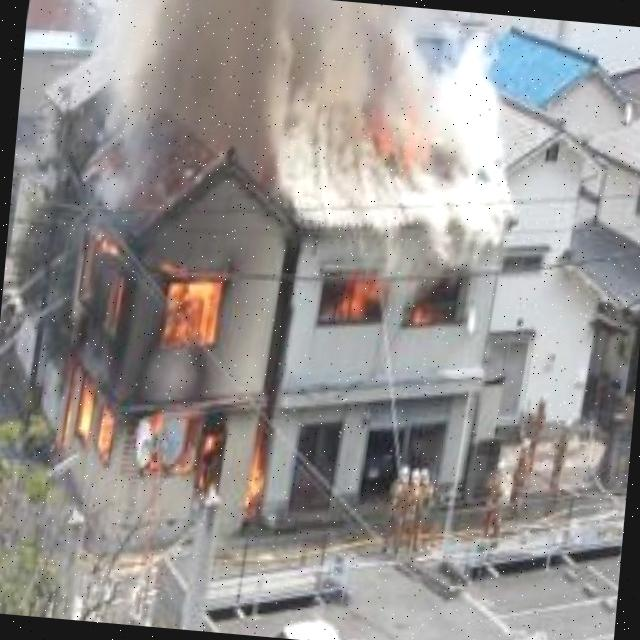fire: (28, 218, 300, 526), (304, 250, 470, 357), (326, 101, 462, 187)
